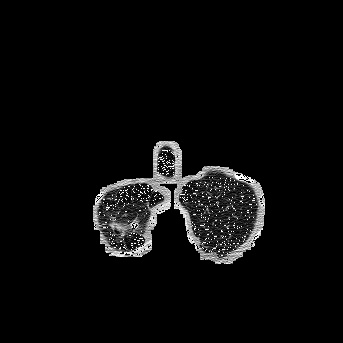PN: (131, 222, 137, 228)
